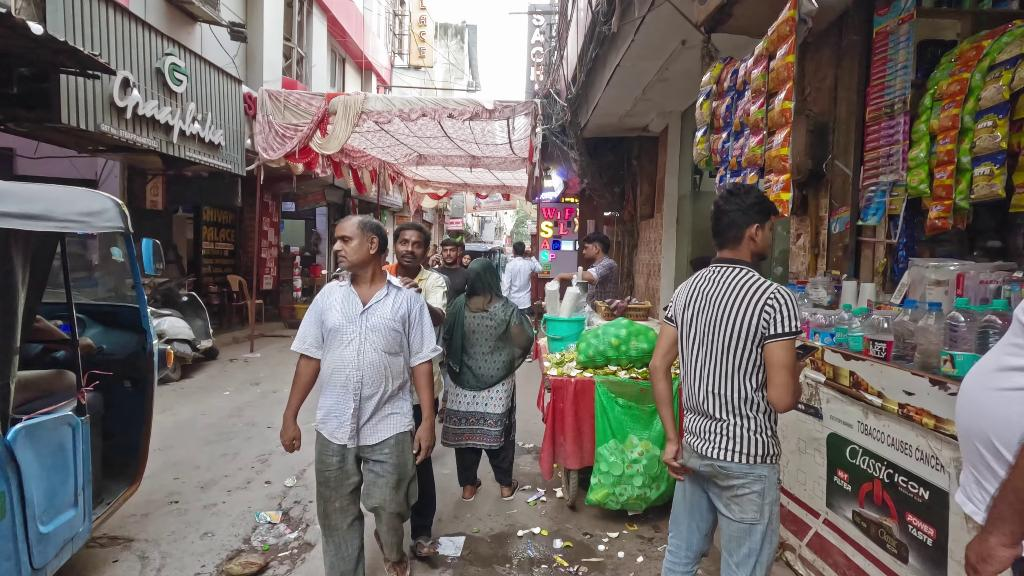garbage: (439, 529, 472, 559), (253, 504, 287, 526), (227, 555, 265, 571), (517, 527, 542, 540), (548, 540, 577, 551), (283, 475, 299, 487), (604, 529, 623, 539)
